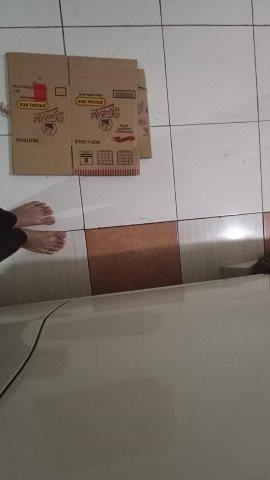kardus: (8, 53, 151, 175)
